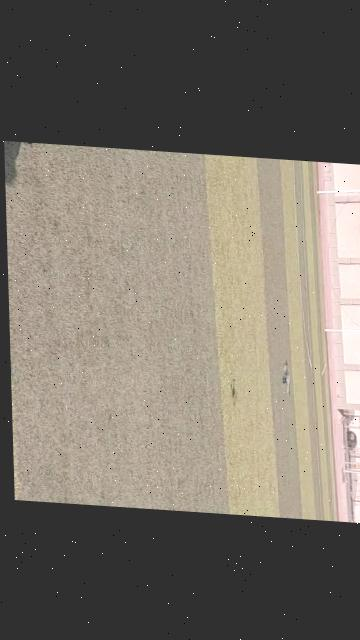drone: (277, 349, 298, 388)
